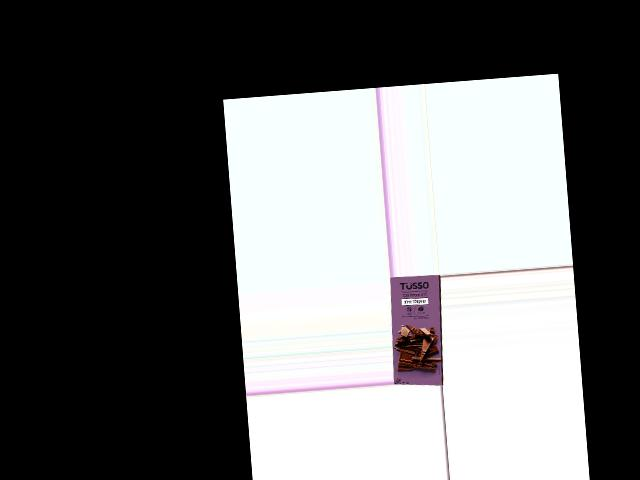chocolate: (388, 276, 445, 389)
